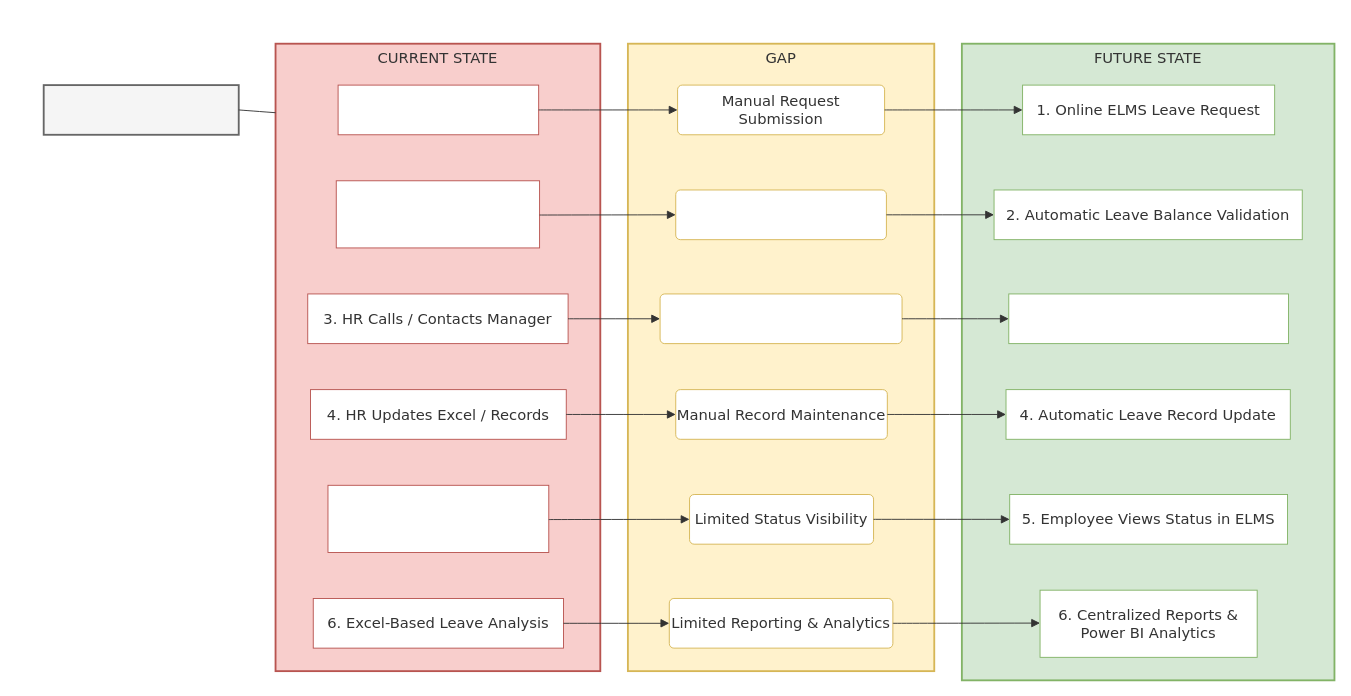
This 1351x696 diagram has some shape labels left out. Here are the shapes that lost their labels. From the top down, the centre of each, then its label:
pixel 140 109: ELMS — Gap Analysis
pixel 438 109: 1. Email / Paper Form
pixel 437 214: 2. HR Manually Checks Leave Balance
pixel 780 214: Manual Balance Verification
pixel 780 318: Manual Approval Communication
pixel 1148 318: 3. System Notification to Manager
pixel 438 518: 5. Employee Contacts HR for Status
